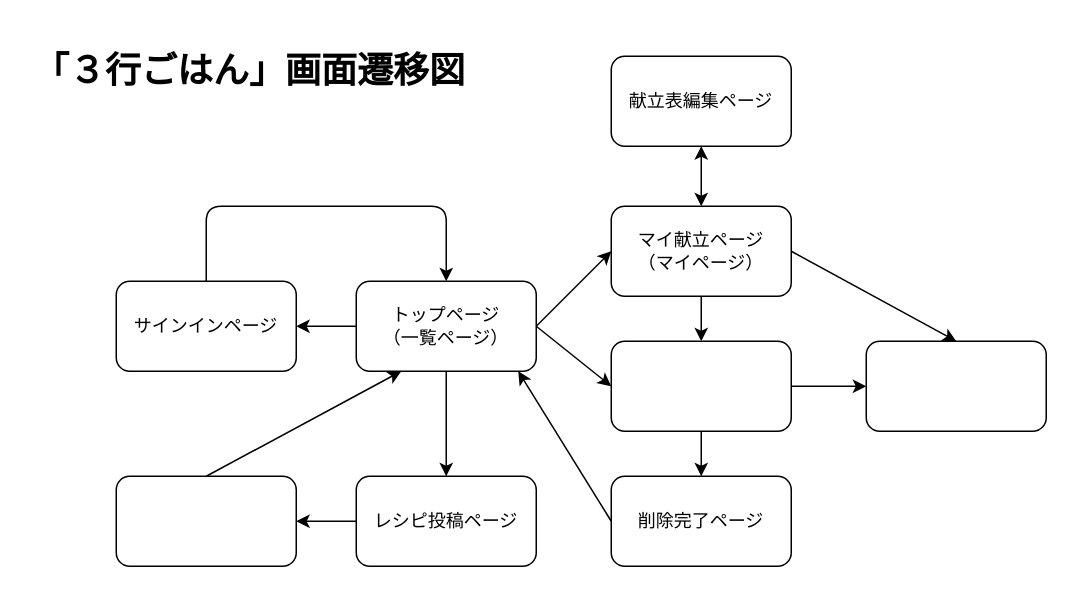
The diagram is 1073 pixels wide and 593 high, and some of its shapes have lost their labels. Here are the shapes that lost their labels. From the top down, the centre of each, then its label:
At pixel 700 385: "レシピ詳細ページ".
At pixel 955 385: "レシピ編集ページ".
At pixel 205 520: "投稿完了ページ".
